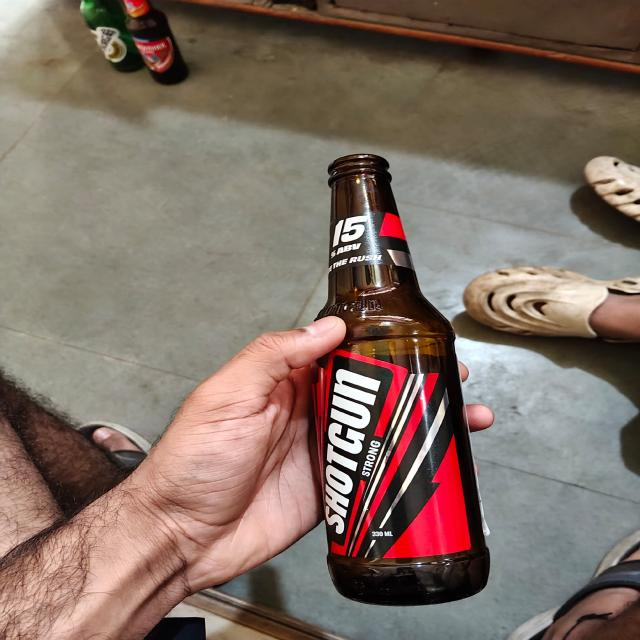Alcohol-Bottle-Detection: (306, 150, 444, 604)
